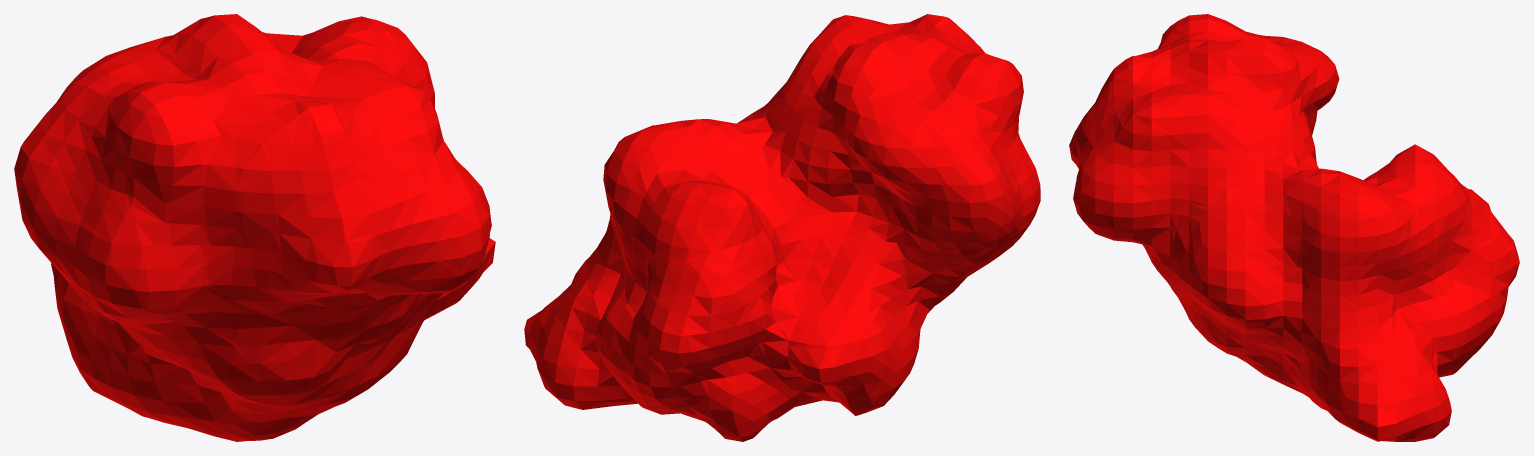
Rendered from rfaP_coarse.dae.
The picture shows the model from 3 angles, left to right: view 1: azimuth 30°, elevation 25°; view 2: azimuth 150°, elevation 25°; view 3: azimuth 270°, elevation 25°; orthographic projection. The views are drawn at different scales.
Visible parts, largest first — view 1: rfaP; view 2: rfaP; view 3: rfaP.
Boxes of the visible parts, left/top/right/bottom form: rfaP: left=14, top=14, right=495, bottom=441; rfaP: left=524, top=14, right=1040, bottom=441; rfaP: left=1069, top=14, right=1519, bottom=441.
Size of the model in its own units: 61.84 by 49.47 by 62.99.
